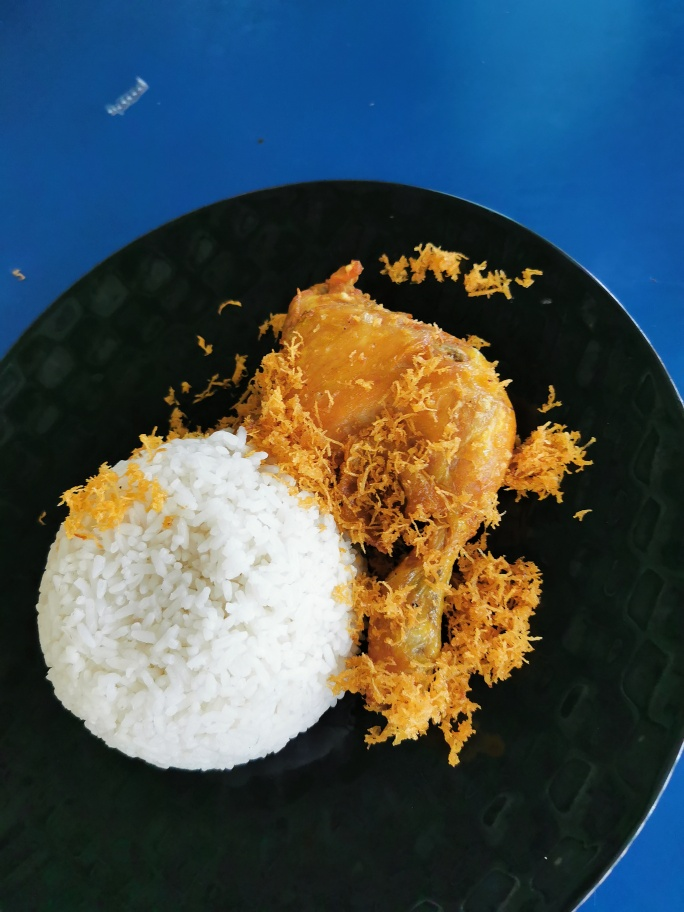ayam goreng: (221, 219, 562, 741)
nasi putih: (24, 423, 371, 788)
